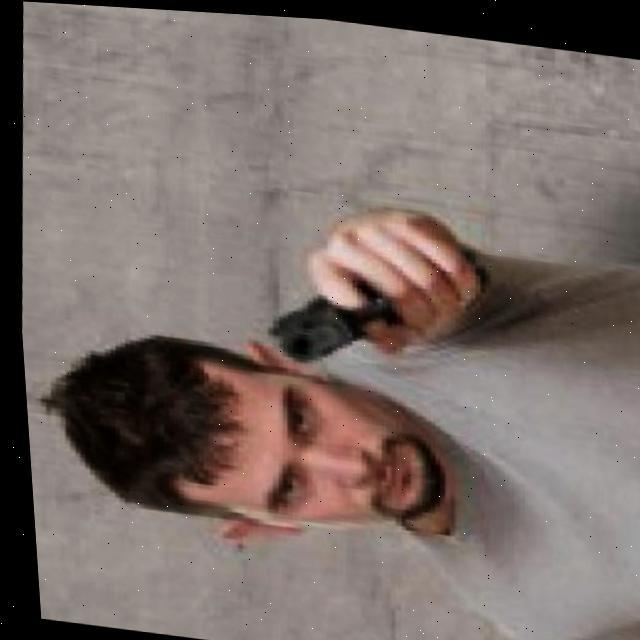gun: (251, 264, 391, 376)
